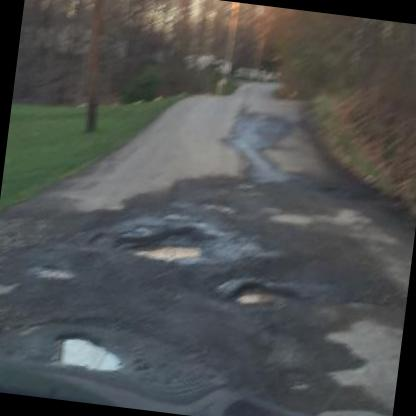pothole: (118, 216, 217, 267), (50, 326, 130, 376), (228, 276, 297, 314), (219, 396, 308, 416), (34, 260, 76, 280)
